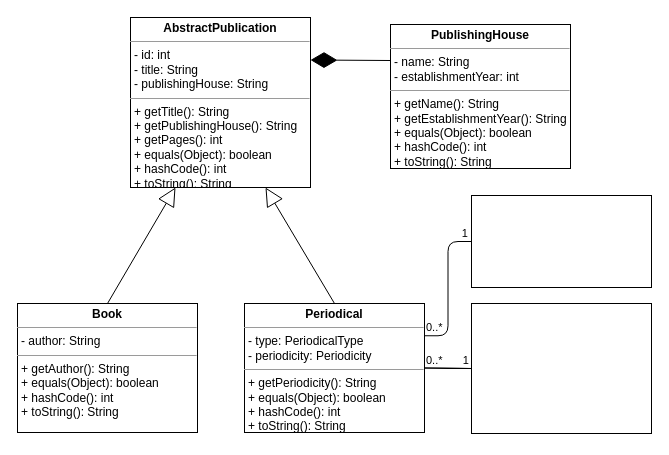
Some shapes in this 669 by 455 pixel diagram are drawn without their labels. Each missing label, with the centre of its shape:
"« enumeration » PeriodicalType NEWSPAPER MAGAZINE BOOKLET" belongs at (x=561, y=241).
"« enumeration » Periodicity DAILY WEEKLY BIWEEKLY MONTHLY BIMONTHLY QUARTERLY" belongs at (x=561, y=368).
